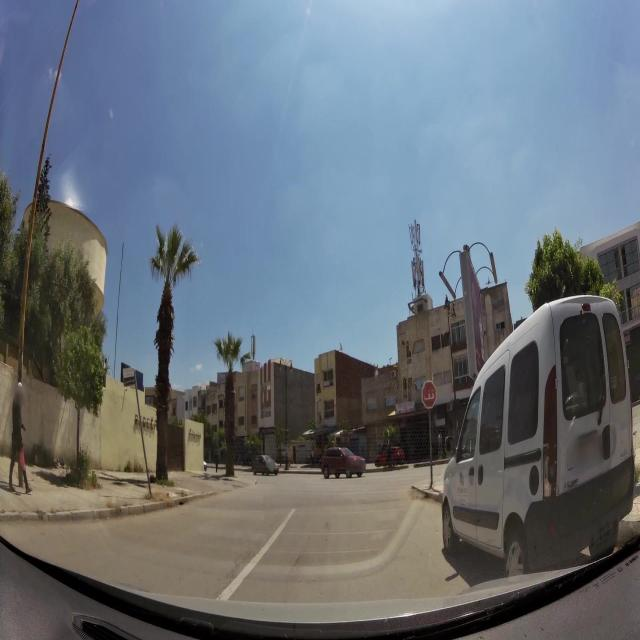car: (441, 294, 639, 582), (322, 447, 366, 479), (375, 443, 406, 468), (252, 454, 279, 476)
